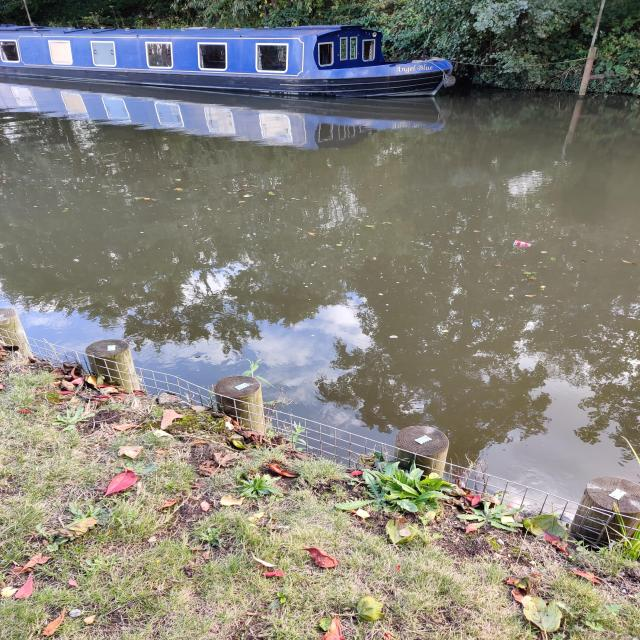litter: (231, 379, 254, 393)
